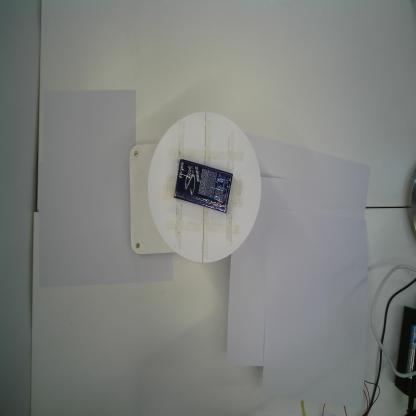Gum: (174, 158, 232, 214)
